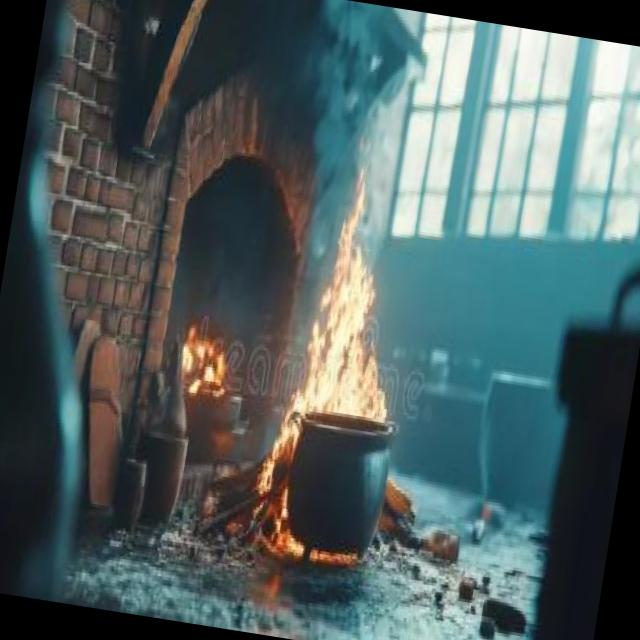Fire_Save: (242, 149, 436, 568), (172, 312, 237, 403)
